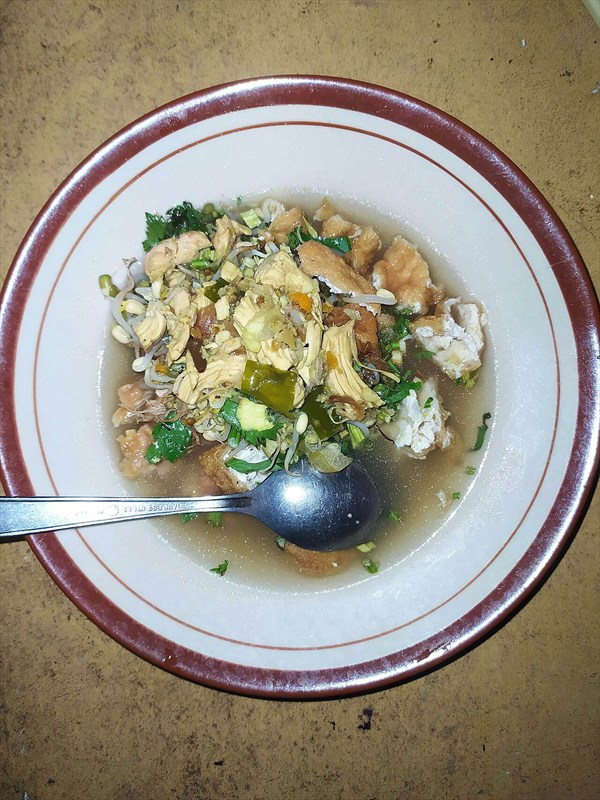Soto Ayam: (16, 79, 572, 688)
